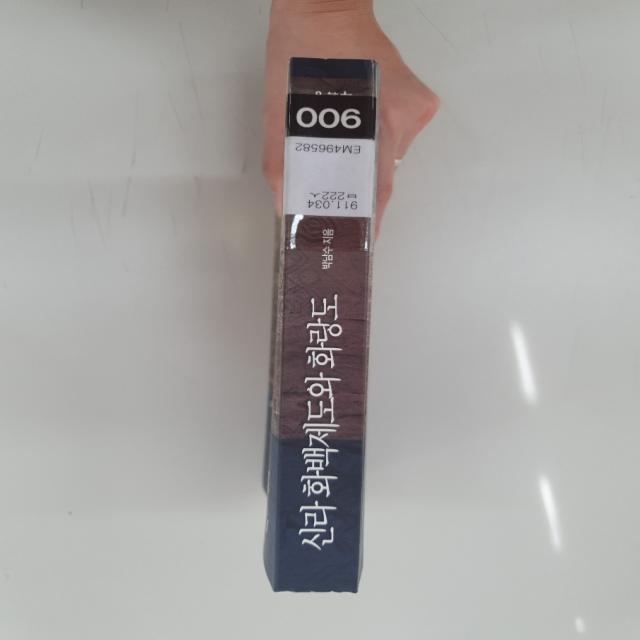Wornout: (265, 575, 364, 599)
